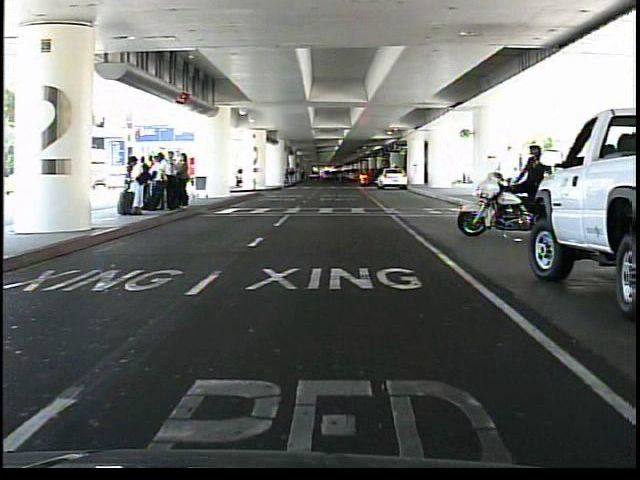person: (513, 132, 553, 239)
